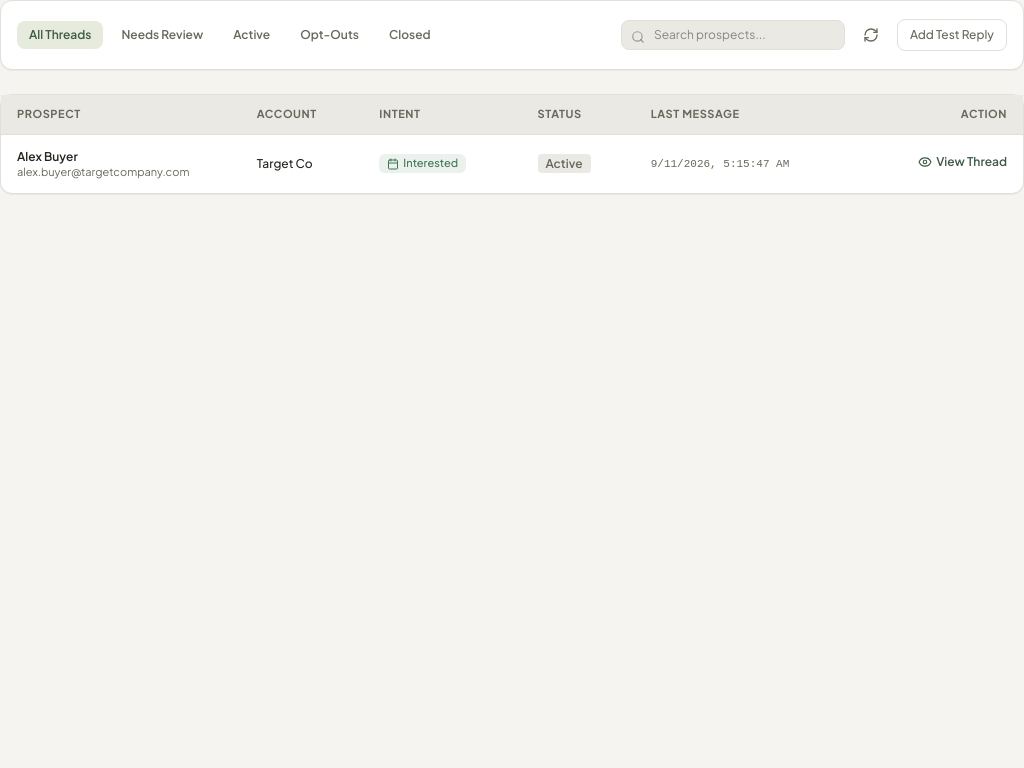
Test case: ConversationsPage - Add Test Reply › opens add test reply modal when button is clicked
Click the button "Add Test Reply". click: x=952, y=35
box: [897,19,1007,51]
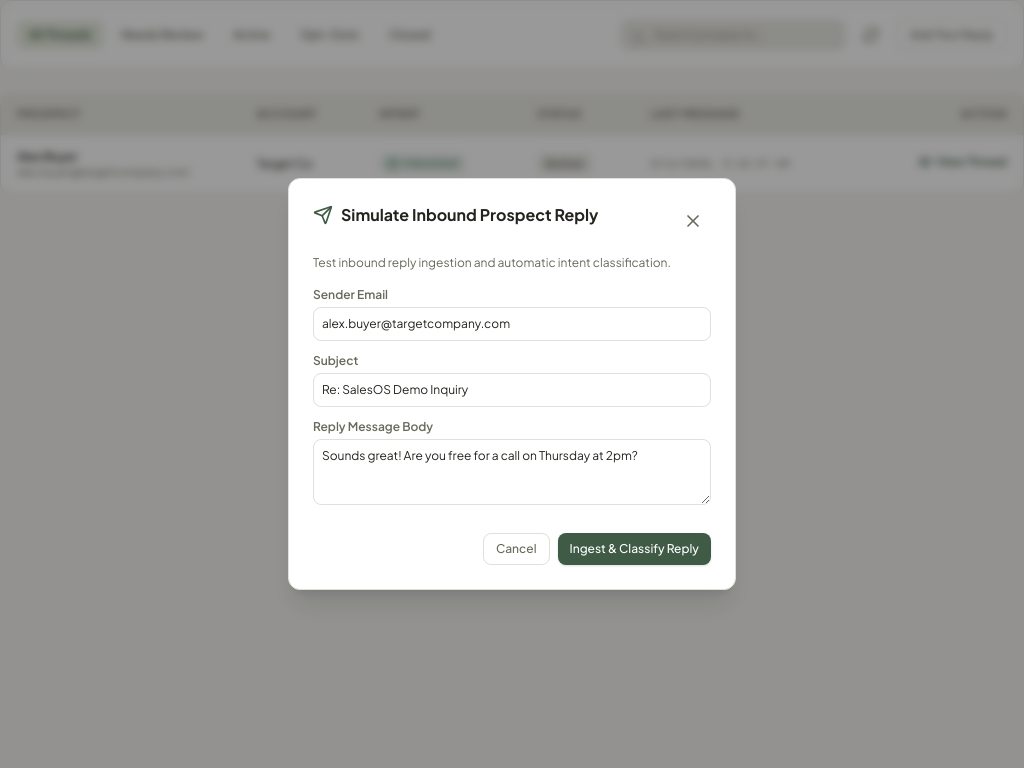
Expected: the text "Add Test Reply" is shown, [910,27,994,43]
Expected: the field showing "alex.buyer@targetcompany.com" below "Sender Email" is shown, [313,307,711,341]
